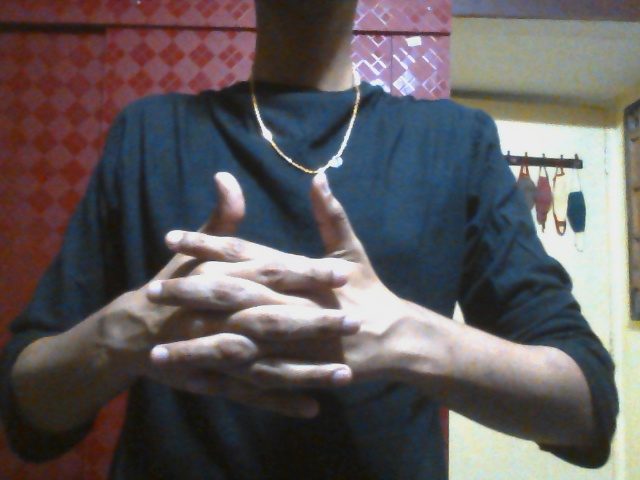W: (127, 169, 406, 421)
